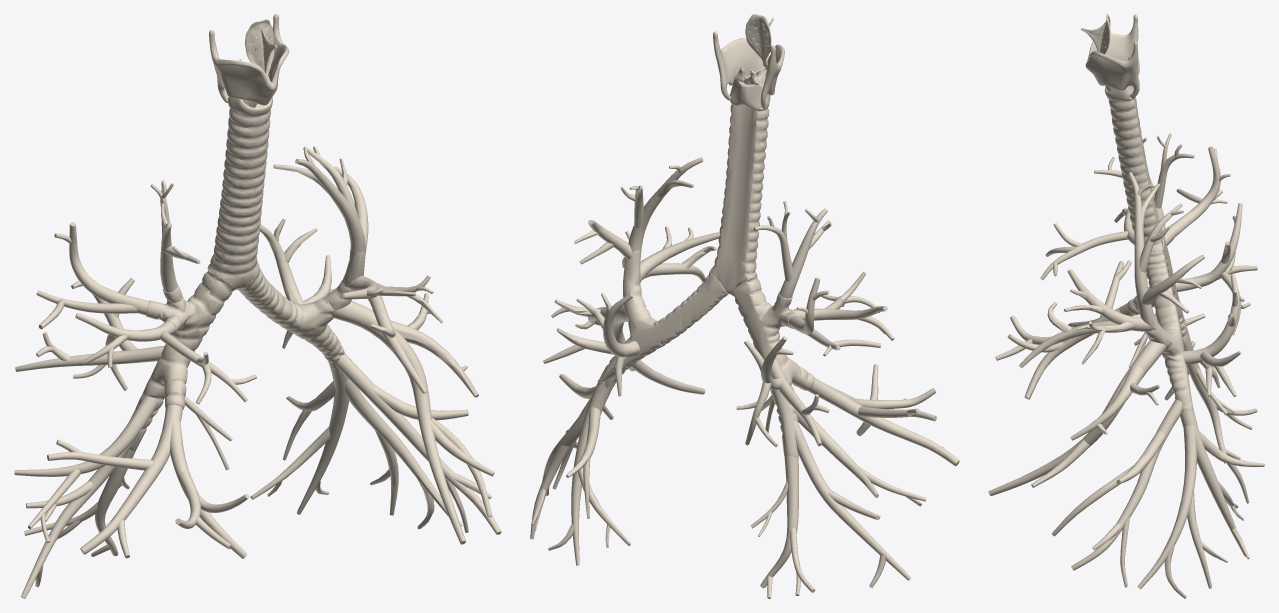
File: respiratorio.glb
The picture shows the model from 3 angles, left to right: view 1: azimuth 30°, elevation 25°; view 2: azimuth 150°, elevation 25°; view 3: azimuth 270°, elevation 25°; orthographic projection. The views are drawn at different scales.
Parts seen in each view (by area): view 1: FMA7394, FMA68418, FMA7396, FMA68227, FMA68215, FMA68233, FMA55099, FMA68232, FMA68216, FMA68212, FMA68214, FMA68213 (+13 smaller); view 2: FMA7394, FMA7396, FMA68418, FMA68233, FMA68216, FMA68215, FMA68220, FMA55099, FMA68228, FMA68221, FMA68222, FMA68211 (+12 smaller); view 3: FMA7396, FMA7394, FMA68222, FMA68232, FMA68233, FMA55099, FMA68227, FMA68223, FMA68228, FMA68230, FMA68231, FMA68216 (+9 smaller).
Part boxes in pixels (x1,y1,x2,y2): FMA7394: [207, 103, 270, 289]; FMA68418: [129, 268, 236, 450]; FMA7396: [238, 249, 365, 368]; FMA68227: [329, 301, 494, 544]; FMA68215: [47, 394, 184, 558]; FMA68233: [250, 361, 348, 514]; FMA55099: [209, 14, 289, 105]; FMA68232: [345, 379, 461, 529]; FMA68216: [15, 278, 164, 390]; FMA68212: [75, 313, 256, 404]; FMA68214: [170, 420, 249, 558]; FMA68213: [36, 222, 164, 329]; FMA7394: [710, 104, 769, 294]; FMA7396: [598, 250, 728, 388]; FMA68418: [731, 274, 814, 457]; FMA68233: [548, 369, 630, 565]; FMA68216: [736, 336, 829, 447]; FMA68215: [807, 374, 959, 466]; FMA68220: [792, 420, 910, 587]; FMA55099: [713, 31, 784, 108]; FMA68228: [543, 293, 639, 396]; FMA68221: [750, 456, 815, 598]; FMA68222: [622, 226, 720, 282]; FMA68211: [753, 201, 832, 298]; FMA7396: [1136, 250, 1193, 412]; FMA7394: [1108, 97, 1164, 254]; FMA68222: [1019, 269, 1151, 367]; FMA68232: [1137, 424, 1227, 598]; FMA68233: [1180, 396, 1264, 559]; FMA55099: [1085, 14, 1139, 98]; FMA68227: [988, 340, 1166, 495]; FMA68223: [1128, 172, 1183, 330]; FMA68228: [1183, 273, 1241, 396]; FMA68230: [1071, 398, 1182, 570]; FMA68231: [1052, 431, 1164, 587]; FMA68216: [1175, 203, 1257, 335].
Bounding box in the file's own units: 0.2394 × 0.3134 × 0.1576.
